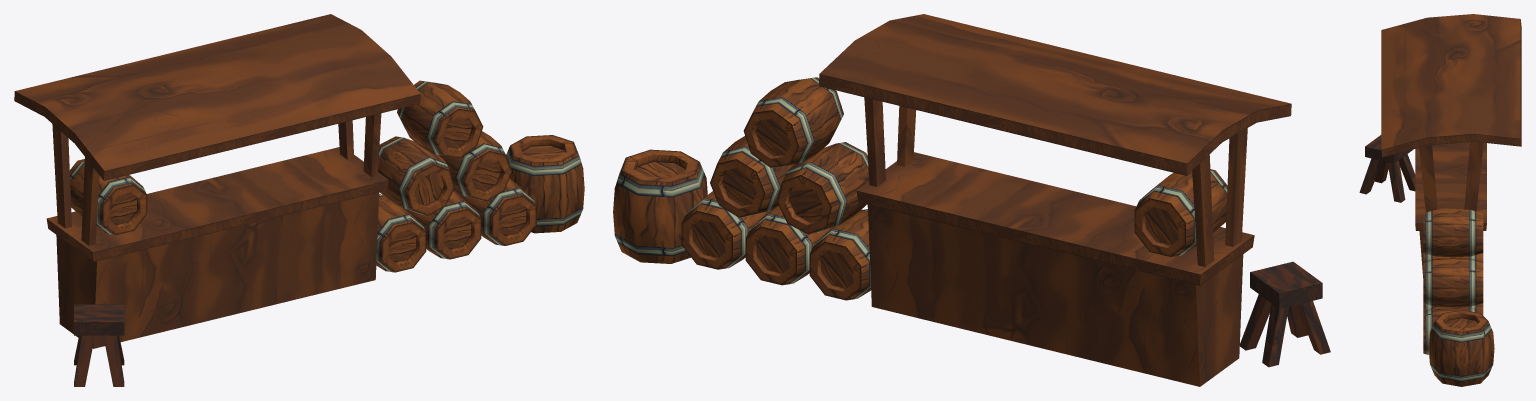
The model's file is Stand3.FBX.
3 renders of one model, left to right at view 1: azimuth 30°, elevation 25°; view 2: azimuth 150°, elevation 25°; view 3: azimuth 270°, elevation 25°, orthographic. The views are drawn at different scales.
Visible parts, largest first — view 1: Marketstand, Barrel_01, Barrel_007, Barrel_006, Barrel_008, Stoel002, Barrel_005, Barrel_002, Barrel_003, Barrel_004; view 2: Marketstand, Barrel_01, Barrel_007, Barrel_006, Stoel002, Barrel_008, Barrel_002, Barrel_005, Barrel_003, Barrel_004; view 3: Marketstand, Barrel_01, Barrel_005, Barrel_007, Stoel002, Barrel_004, Barrel_006.
Part boxes in pixels (x1,y1,x2,y2): Marketstand: [14, 14, 420, 348]; Barrel_01: [506, 135, 584, 233]; Barrel_007: [397, 80, 483, 158]; Barrel_006: [378, 136, 454, 215]; Barrel_008: [69, 159, 147, 235]; Stoel002: [74, 304, 124, 386]; Barrel_005: [439, 131, 511, 201]; Barrel_002: [376, 194, 426, 272]; Barrel_003: [405, 191, 481, 259]; Barrel_004: [458, 178, 536, 245]; Marketstand: [819, 14, 1291, 386]; Barrel_01: [613, 149, 707, 263]; Barrel_007: [743, 77, 843, 167]; Barrel_006: [777, 142, 869, 234]; Stoel002: [1240, 261, 1330, 367]; Barrel_008: [1134, 169, 1227, 256]; Barrel_002: [809, 209, 870, 300]; Barrel_005: [710, 136, 794, 217]; Barrel_003: [745, 206, 833, 285]; Barrel_004: [681, 191, 773, 269]; Marketstand: [1381, 14, 1521, 277]; Barrel_01: [1428, 310, 1494, 386]; Barrel_005: [1423, 257, 1483, 307]; Barrel_007: [1423, 209, 1483, 257]; Stoel002: [1359, 135, 1415, 202]; Barrel_004: [1423, 306, 1483, 354]; Barrel_006: [1423, 253, 1483, 261].
Size of the model in its own units: 8.37 by 3.25 by 2.7.
3 materials, 3 textured.
